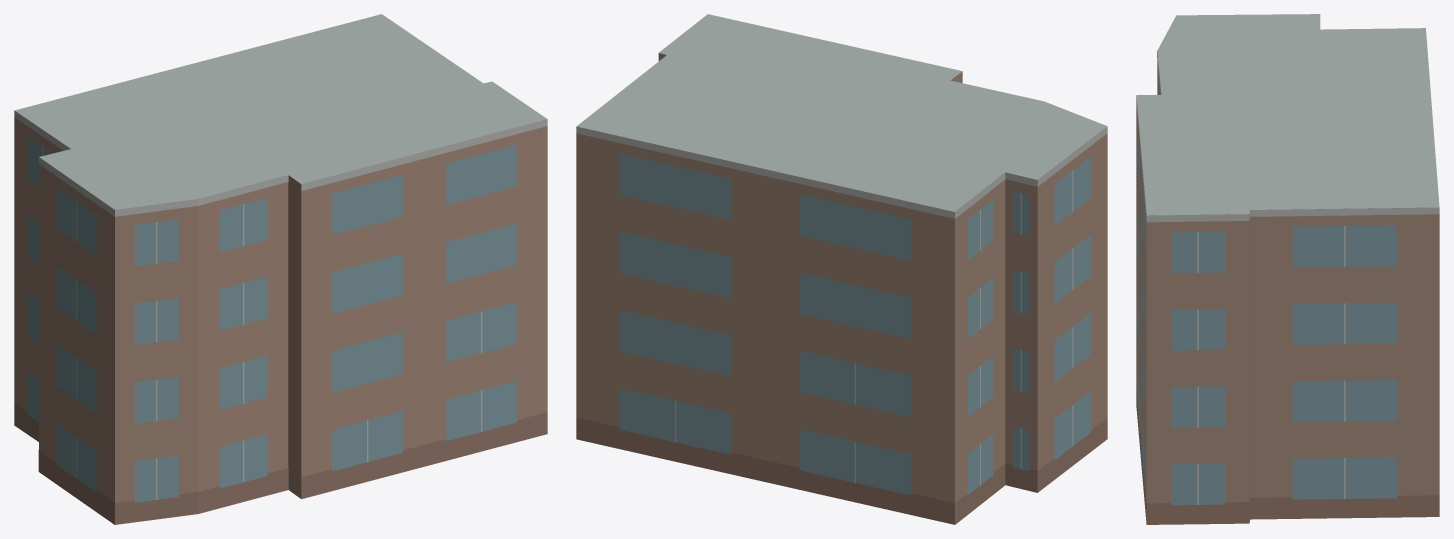
File: survey-upis-32958948.glb
The picture shows the model from 3 angles, left to right: view 1: azimuth 30°, elevation 25°; view 2: azimuth 150°, elevation 25°; view 3: azimuth 270°, elevation 25°; orthographic projection.
Parts seen in each view (by area): view 1: survey-upis-32958948.tmp; view 2: survey-upis-32958948.tmp; view 3: survey-upis-32958948.tmp.
Boxes of the visible parts, x1,y1,x2,y2 form: survey-upis-32958948.tmp: (14, 14, 547, 524); survey-upis-32958948.tmp: (576, 14, 1107, 524); survey-upis-32958948.tmp: (1136, 14, 1439, 524).
Size of the model in its own units: 15.51 by 11.1 by 9.87.
